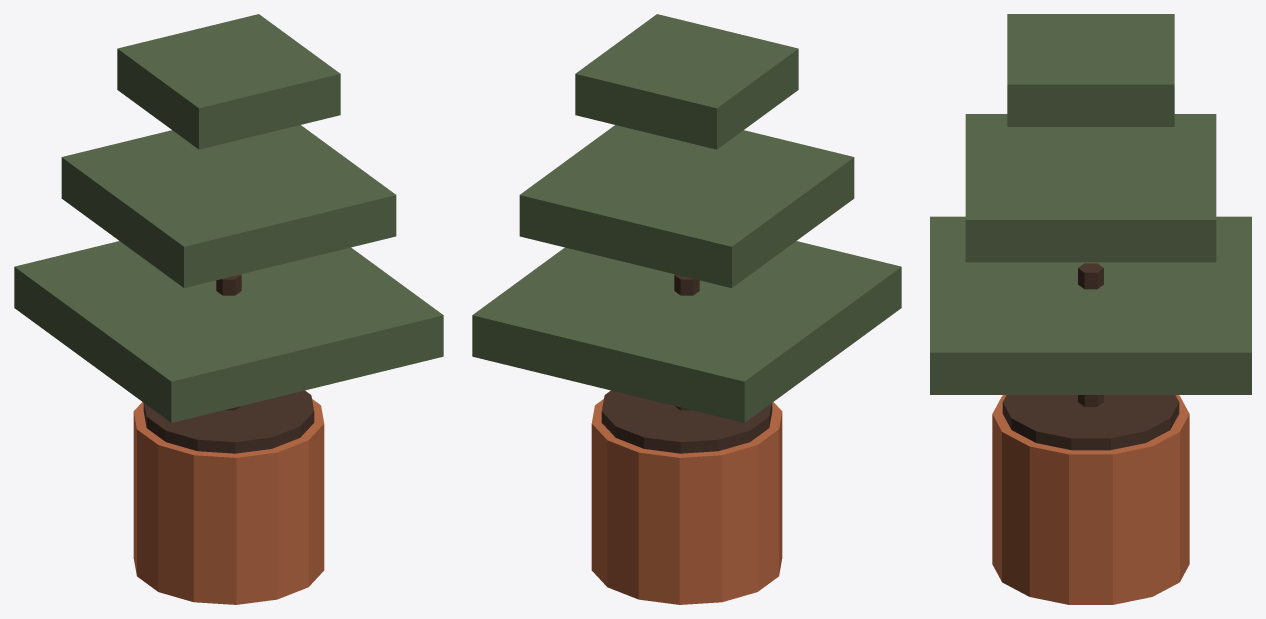
3 renders of one model, left to right at view 1: azimuth 30°, elevation 25°; view 2: azimuth 150°, elevation 25°; view 3: azimuth 270°, elevation 25°, orthographic. The views are drawn at different scales.
Visible parts, largest first — view 1: planta_of1; view 2: planta_of1; view 3: planta_of1.
Boxes of the visible parts, x1,y1,x2,y2 form: planta_of1: (14, 14, 443, 604); planta_of1: (472, 14, 901, 604); planta_of1: (930, 14, 1251, 604).
Bounding box in the file's own units: 0.62 × 0.62 × 1.1.
